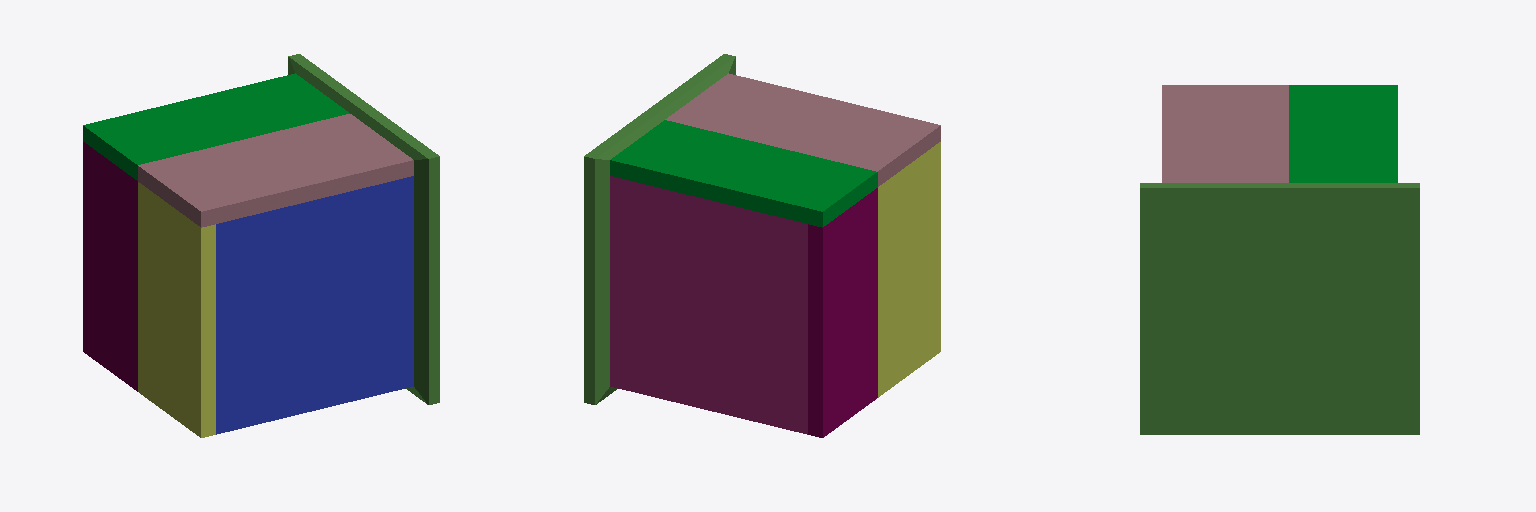
The model's file is SinkAreaTrash.obj.
3 renders of one model, left to right at view 1: azimuth 30°, elevation 25°; view 2: azimuth 150°, elevation 25°; view 3: azimuth 270°, elevation 25°, orthographic.
Parts seen in each view (by area): view 1: Shape_IndexedFaceSet_Shape_IndexedFaceSet.026; view 2: Shape_IndexedFaceSet_Shape_IndexedFaceSet.026; view 3: Shape_IndexedFaceSet_Shape_IndexedFaceSet.026.
Part boxes in pixels (x1,y1,x2,y2): Shape_IndexedFaceSet_Shape_IndexedFaceSet.026: (83,54,439,437); Shape_IndexedFaceSet_Shape_IndexedFaceSet.026: (584,54,940,437); Shape_IndexedFaceSet_Shape_IndexedFaceSet.026: (1140,85,1419,434).
Size of the model in its own units: 0.5667 by 0.5856 by 0.6044.